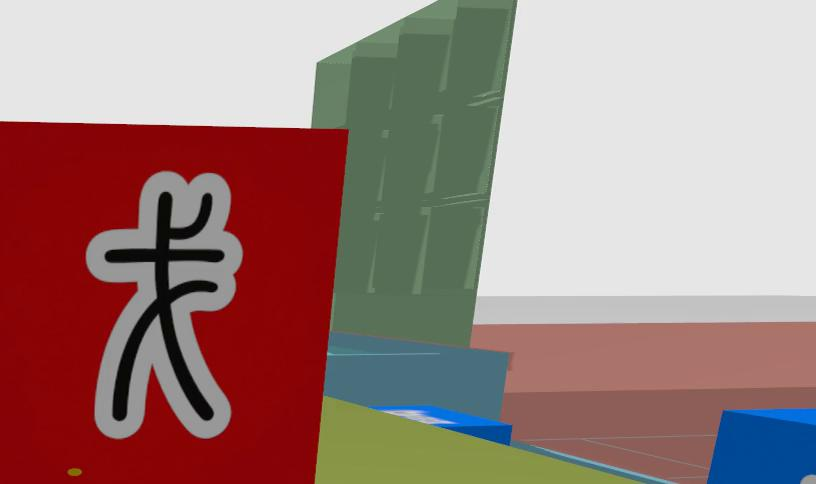KFS_FAKE: (0, 122, 346, 484), (86, 172, 241, 438)
KFS_REAL: (706, 409, 815, 484)
